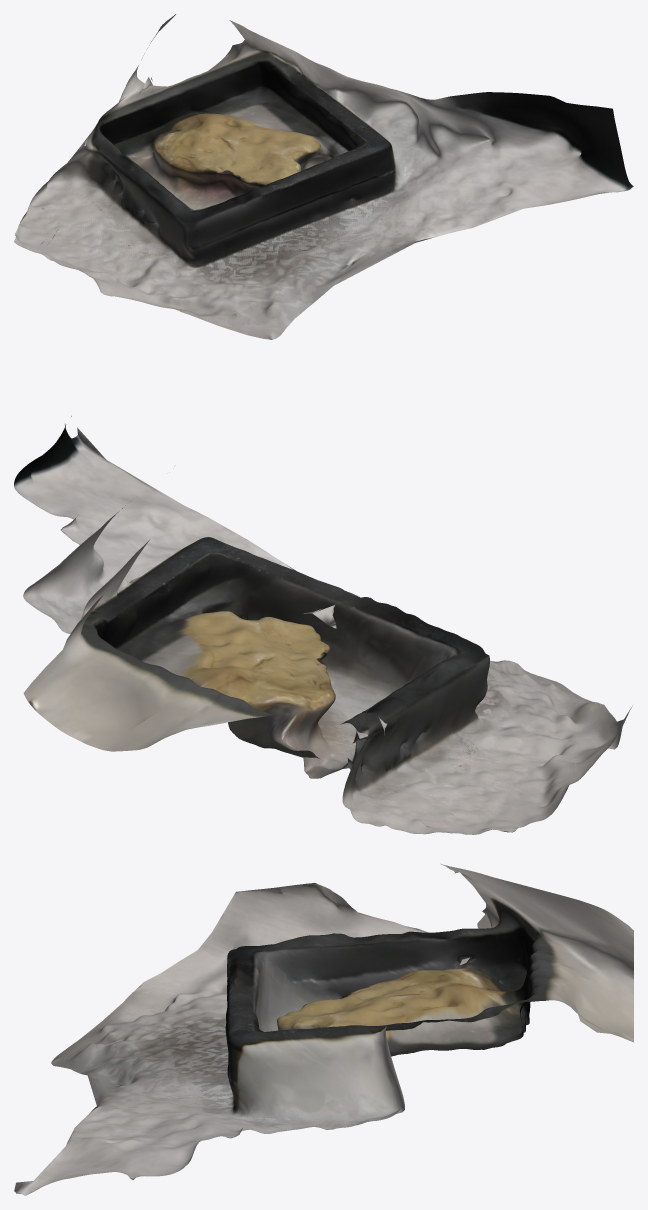
3 renders of one model, top to bottom at view 1: azimuth 30°, elevation 25°; view 2: azimuth 150°, elevation 25°; view 3: azimuth 270°, elevation 25°, orthographic. The views are drawn at different scales.
Bounding box in the file's own units: 1.67 × 0.5019 × 1.34.
1 material, 1 textured.
